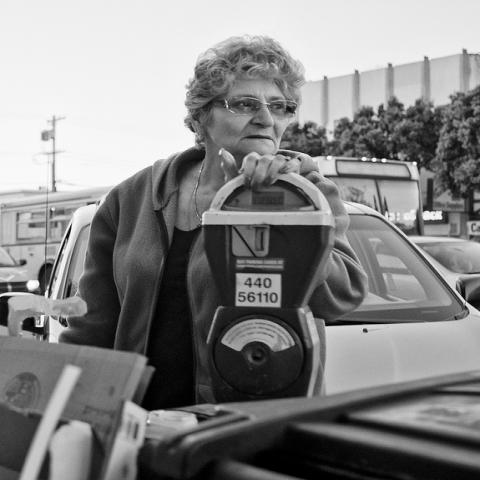bus: (312, 156, 425, 237)
car: (325, 198, 479, 400), (410, 235, 479, 312), (0, 243, 44, 329)
